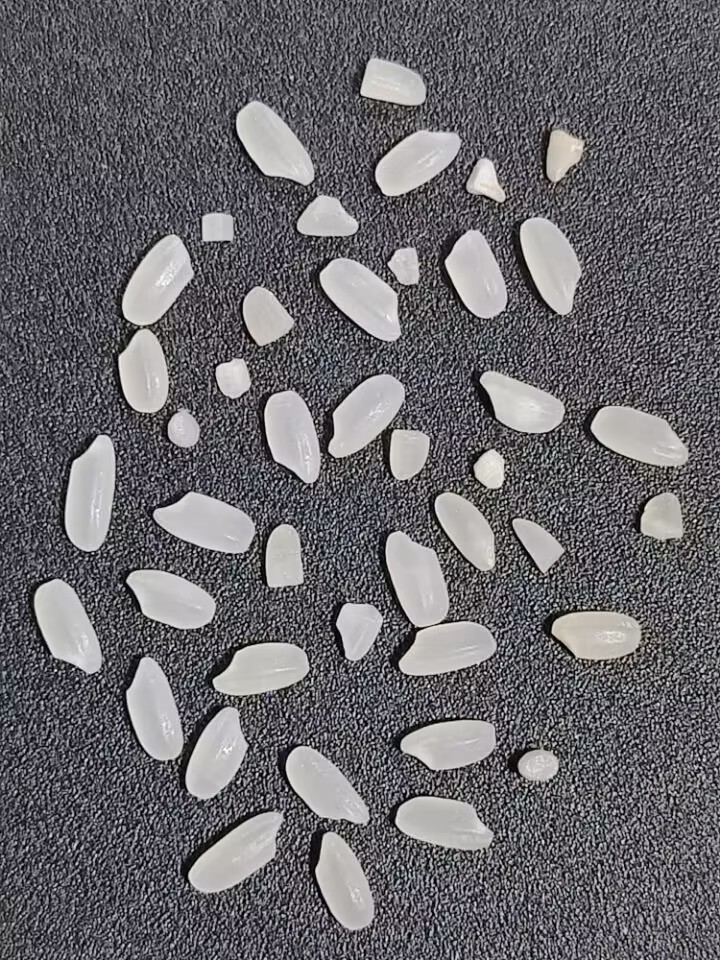broken: (508, 514, 571, 577), (357, 56, 429, 106), (241, 286, 296, 346), (334, 602, 385, 662), (295, 193, 361, 238), (264, 521, 306, 590), (464, 156, 509, 209), (544, 128, 585, 185), (638, 492, 685, 541), (388, 428, 431, 480), (164, 408, 211, 454), (468, 445, 508, 495), (210, 354, 253, 400), (516, 744, 562, 787), (384, 246, 424, 291), (199, 211, 235, 246)
rice: (185, 807, 288, 896), (315, 256, 403, 343), (283, 743, 374, 826), (256, 387, 328, 488), (149, 489, 258, 555), (122, 653, 187, 761), (120, 233, 195, 326), (233, 100, 315, 185), (32, 578, 104, 674), (325, 373, 406, 458), (61, 433, 118, 552), (374, 123, 463, 199), (383, 529, 451, 628), (588, 404, 692, 468), (314, 829, 376, 933), (519, 216, 582, 315), (443, 229, 511, 320), (183, 706, 248, 801), (394, 794, 494, 854), (125, 568, 218, 632), (479, 367, 564, 434), (398, 716, 496, 772), (212, 642, 311, 697), (432, 490, 497, 573), (397, 621, 494, 676), (550, 610, 643, 661), (116, 324, 168, 414)
